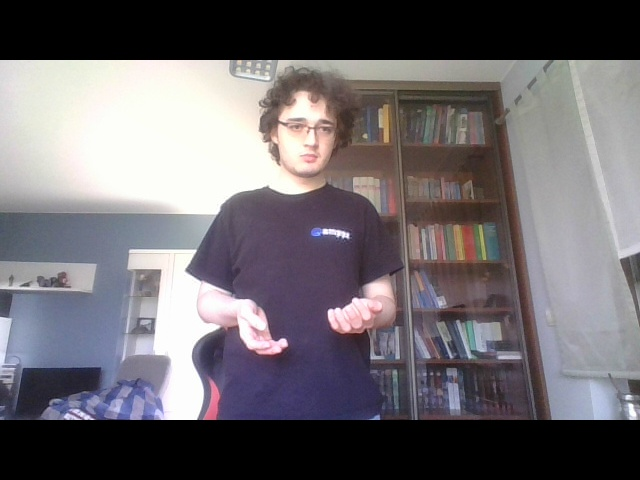hand: (231, 298, 291, 353), (320, 293, 385, 339)
